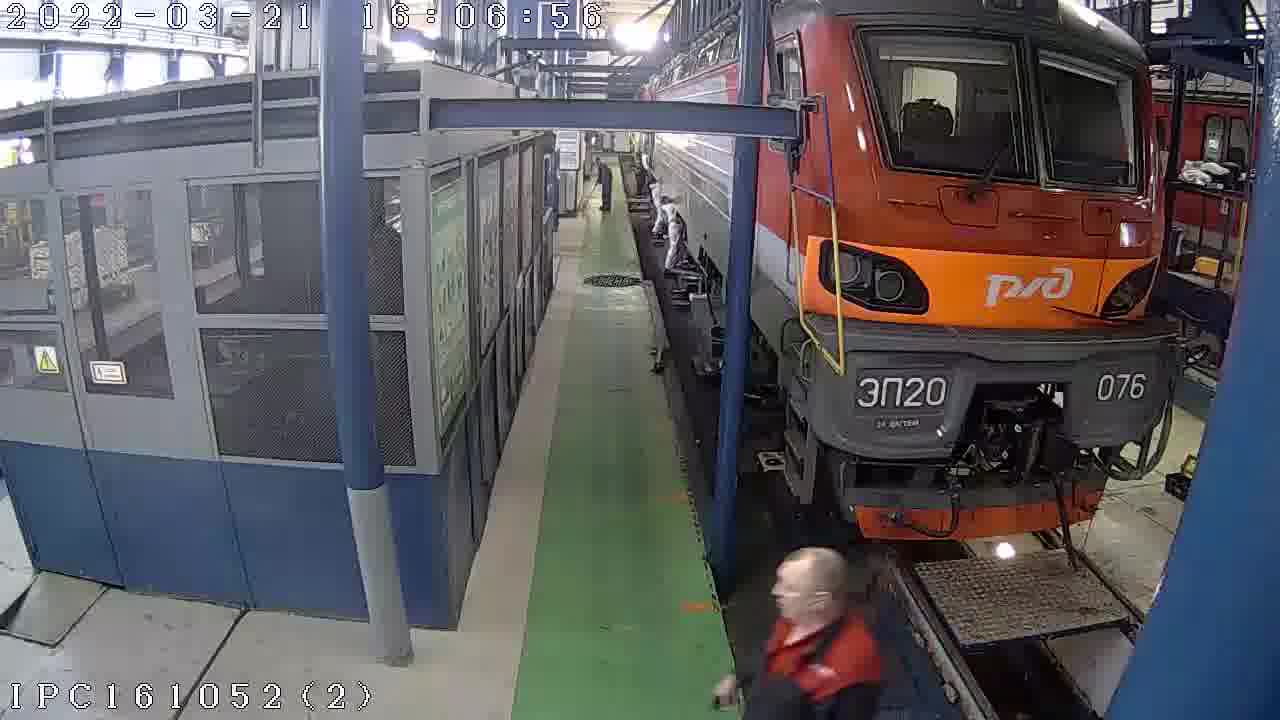person: (711, 542, 888, 720), (590, 154, 614, 212)
train: (659, 198, 685, 270), (648, 179, 667, 234)
worker: (629, 0, 1243, 543)
